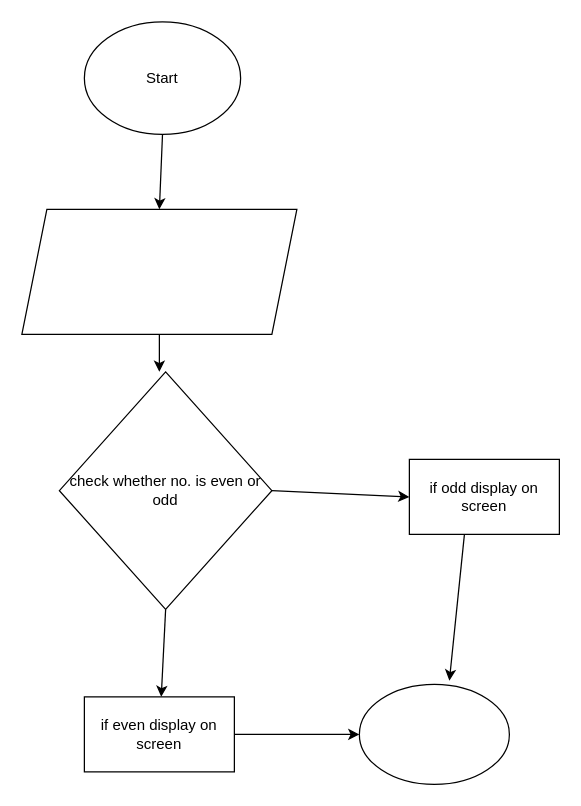
The diagram is 581 pixels wide and 806 high, and some of its shapes have lost their labels. The shapes that lost their labels are listed below. From the top down, each one's box as (x1, y1, x2, y2) in pixels, then its label:
(21, 208, 297, 334): please enter no.
(358, 683, 509, 784): end
